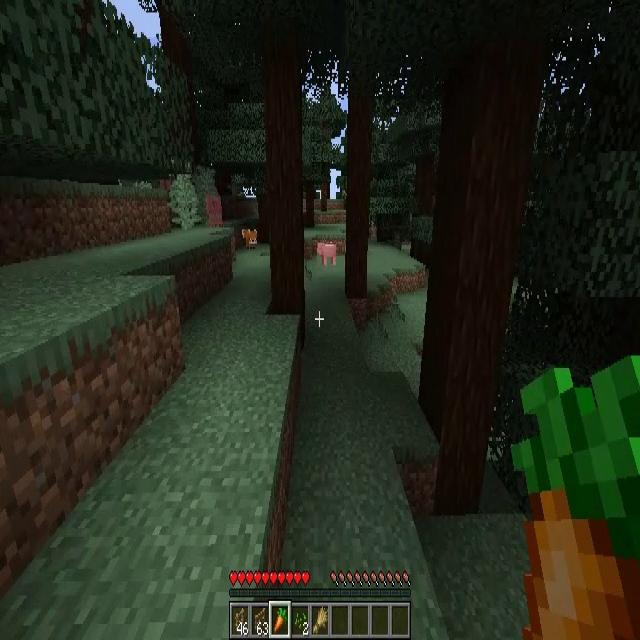pig: (317, 244, 336, 268)
